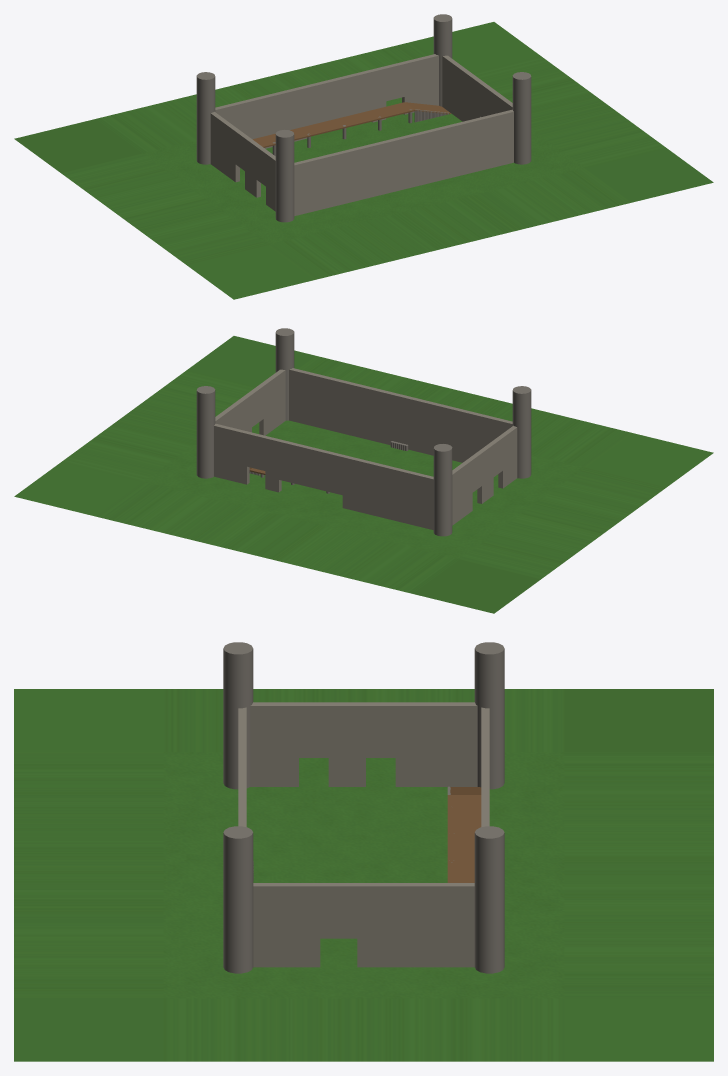
File: room-demo.glb
3 renders of one model, top to bottom at view 1: azimuth 30°, elevation 25°; view 2: azimuth 150°, elevation 25°; view 3: azimuth 270°, elevation 25°, orthographic. The views are drawn at different scales.
Visible parts, largest first — view 1: ground, mb_static_0, mb_static_1, obj_r1o17, obj_r1o18, obj_r1o15, obj_r1o16; view 2: ground, mb_static_0, obj_r1o15, obj_r1o16, obj_r1o17, obj_r1o18; view 3: ground, mb_static_0, obj_r1o16, obj_r1o18, obj_r1o17, obj_r1o15, mb_static_1.
Boxes of the visible parts, x1,y1,x2,y2 form: ground: (14, 22, 713, 299); mb_static_0: (210, 54, 513, 215); mb_static_1: (253, 102, 450, 147); obj_r1o17: (275, 130, 294, 222); obj_r1o18: (512, 72, 531, 164); obj_r1o15: (196, 72, 215, 164); obj_r1o16: (433, 14, 452, 106); ground: (14, 336, 713, 613); mb_static_0: (214, 368, 517, 529); obj_r1o15: (433, 444, 452, 536); obj_r1o16: (196, 386, 215, 478); obj_r1o17: (512, 386, 531, 478); obj_r1o18: (275, 328, 294, 420); ground: (14, 689, 713, 1061); mb_static_0: (238, 702, 489, 967); obj_r1o16: (474, 826, 504, 973); obj_r1o18: (223, 826, 253, 973); obj_r1o17: (223, 642, 253, 789); obj_r1o15: (474, 642, 504, 789); mb_static_1: (447, 787, 481, 882).
Bounding box in the file's own units: 237 × 40.8 × 188.
